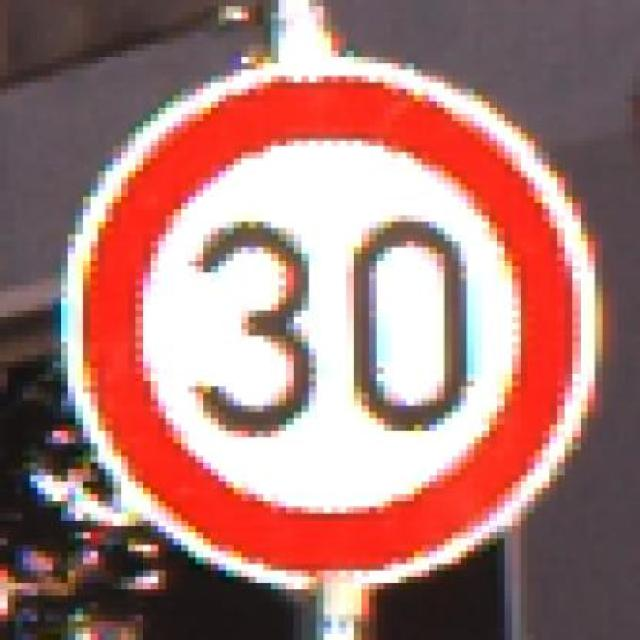Speed Limit 30 KMPh: (38, 44, 625, 608)
